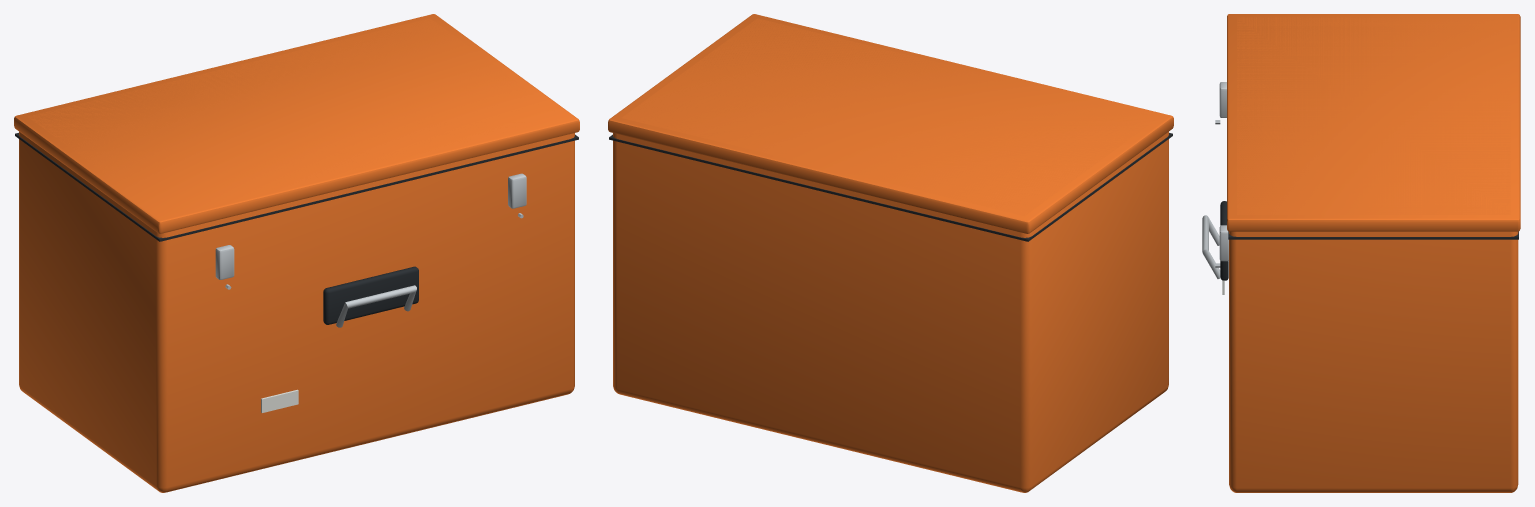
The model's file is ob_orange_chest.glb.
The picture shows the model from 3 angles, left to right: view 1: azimuth 30°, elevation 25°; view 2: azimuth 150°, elevation 25°; view 3: azimuth 270°, elevation 25°; orthographic projection.
Parts seen in each view (by area): view 1: ob_orange_chest; view 2: ob_orange_chest; view 3: ob_orange_chest.
Part boxes in pixels (x1,y1,x2,y2): ob_orange_chest: [14, 14, 579, 492]; ob_orange_chest: [608, 14, 1173, 492]; ob_orange_chest: [1202, 14, 1520, 492].
Size of the model in its own units: 0.8 by 0.5 by 0.52.
